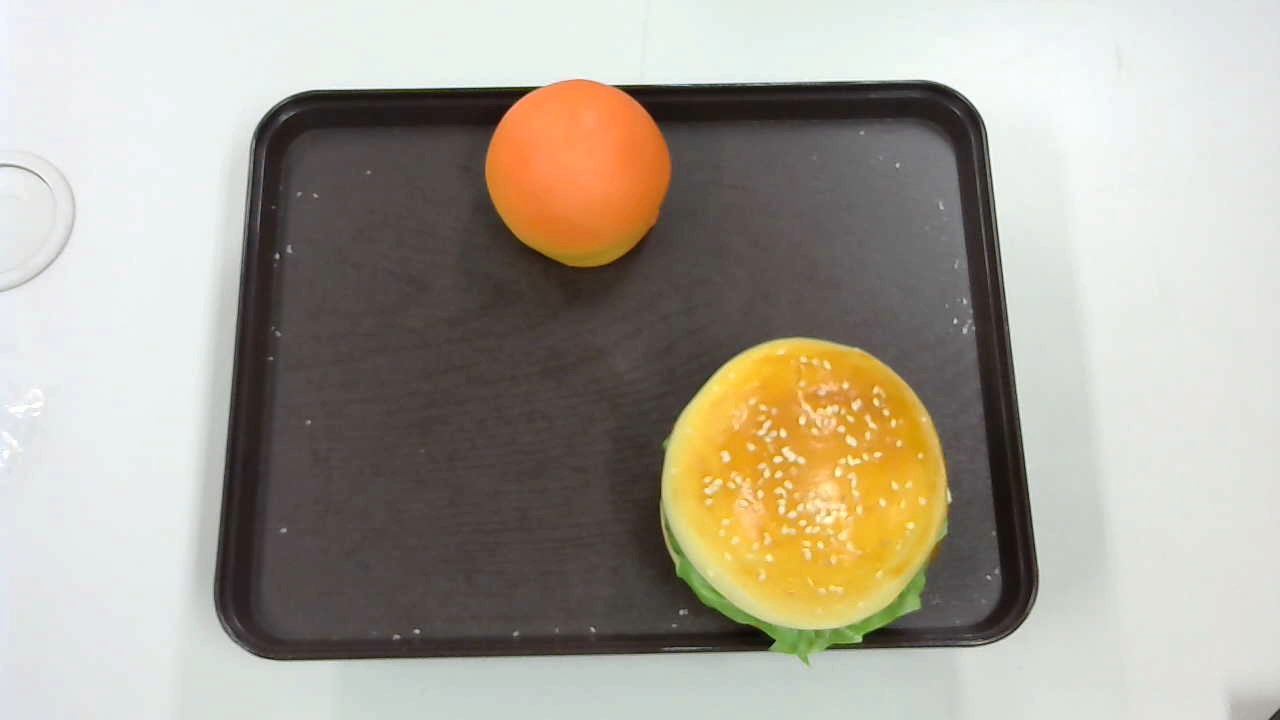bun: (486, 79, 671, 267)
hamburger: (659, 337, 951, 669)
